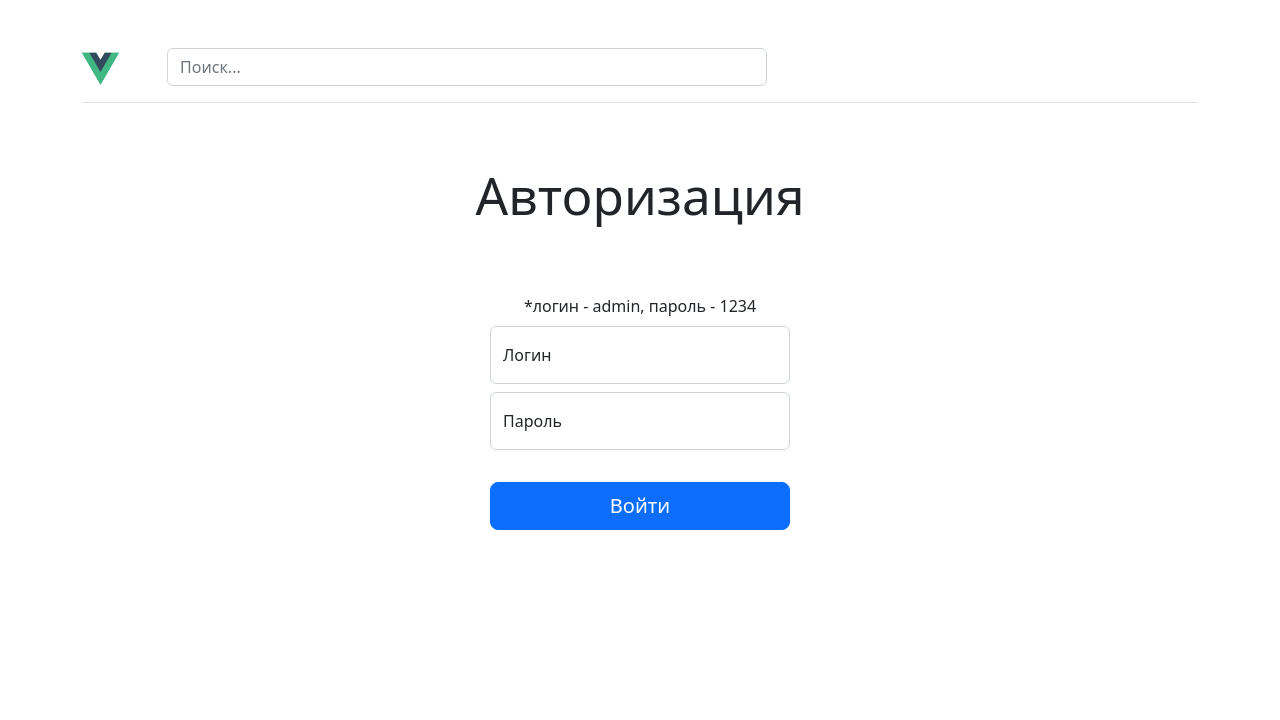
Login › incorrect login and password
This screenshot has width=1280, height=720.
Check: the password field with test id "password" is shown, box x1=490 y1=392 x2=790 y2=450
Check: the form with test id "form" is shown, box x1=490 y1=294 x2=790 y2=554
// неверные значения
Type "wrong_login" into the field with test id "login". click: (640, 355)
box: x1=490 y1=326 x2=790 y2=384
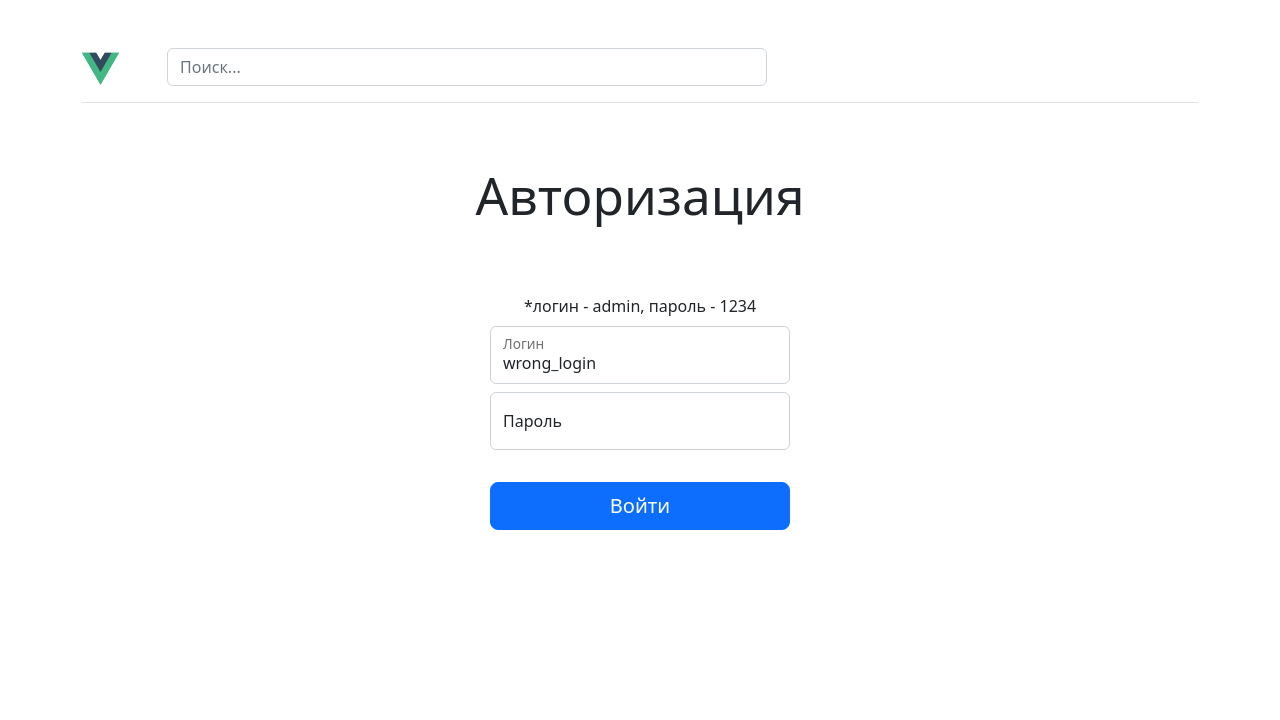
Type "wrong_password" into the password field with test id "password". click: (640, 421)
box: x1=490 y1=392 x2=790 y2=450
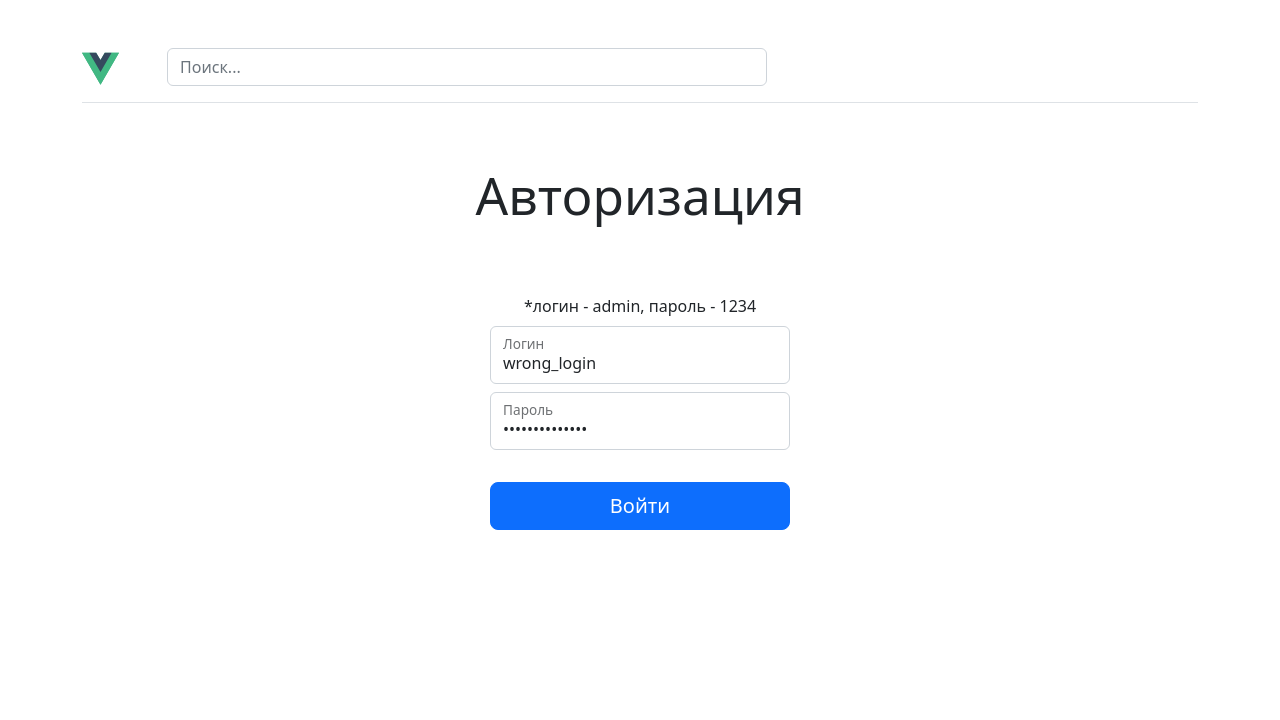
Submit the form with test id "form", box x1=490 y1=294 x2=790 y2=554
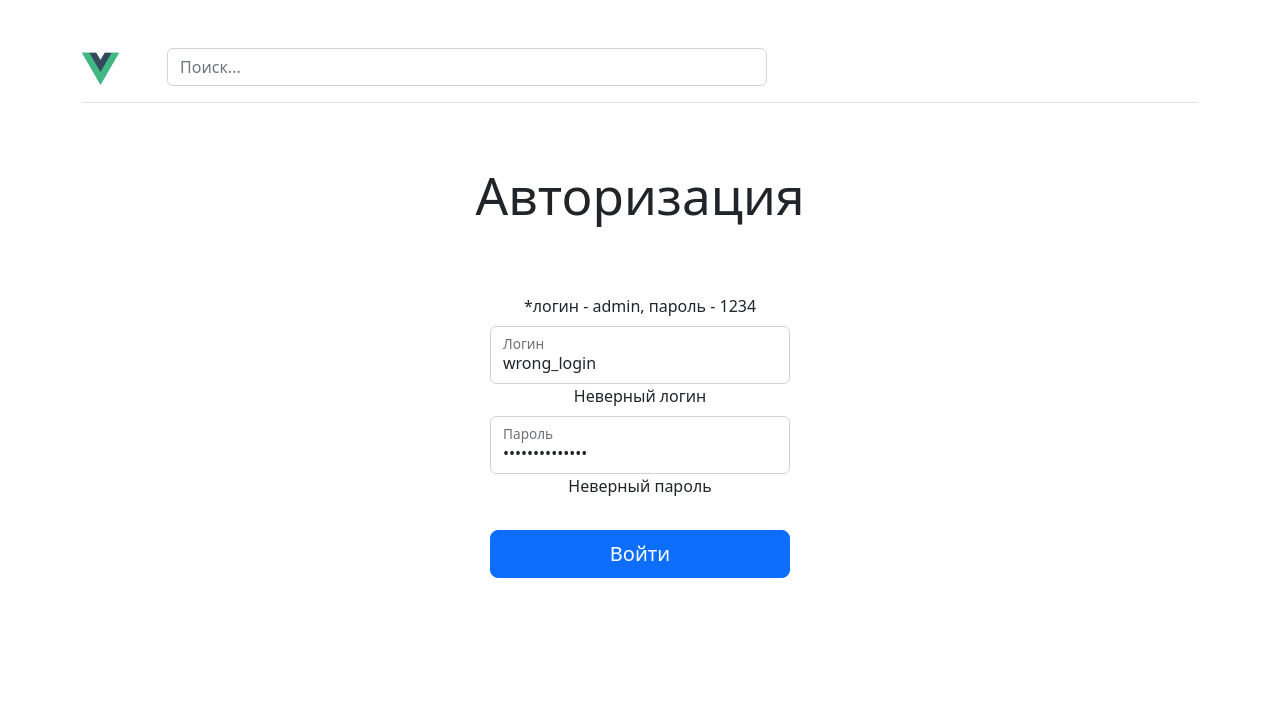
Check: the message "Неверный логин" is shown, box x1=574 y1=385 x2=706 y2=407
